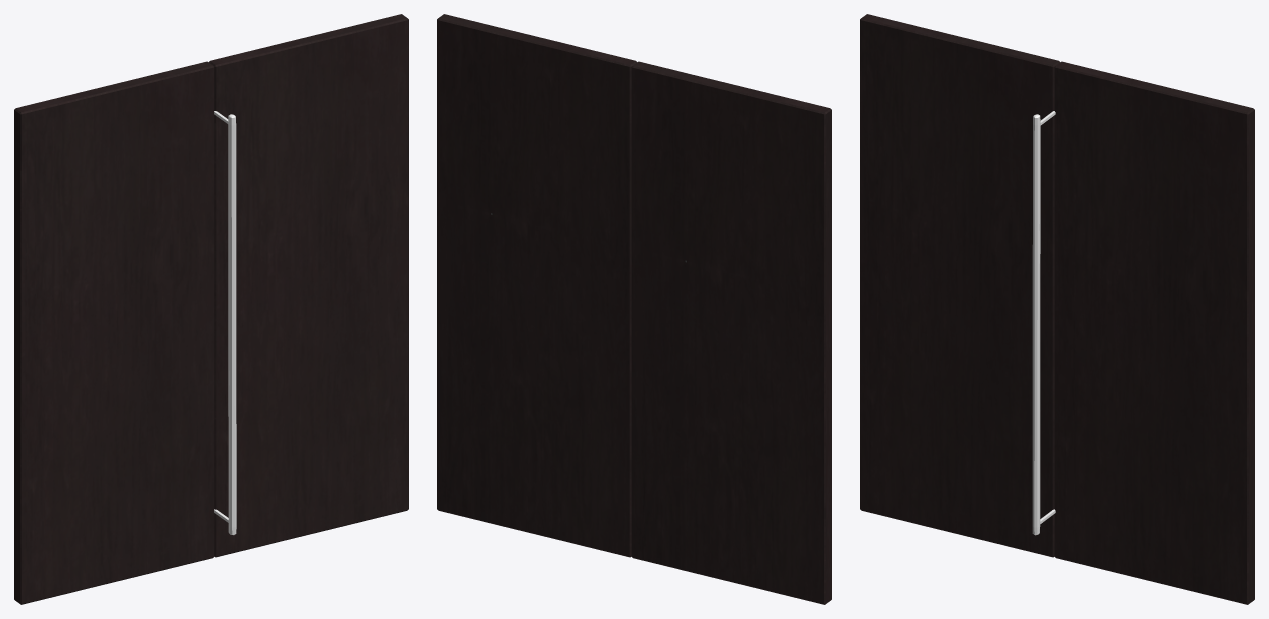
The model's file is Cabinet_3f7c894c.obj.
The picture shows the model from 3 angles, left to right: view 1: azimuth 30°, elevation 25°; view 2: azimuth 150°, elevation 25°; view 3: azimuth 330°, elevation 25°; orthographic projection.
Parts seen in each view (by area): view 1: RightDoorMesh_02_ff4c9adf, LeftDoorMesh_01_cd0fac38, CabineDoorHandle1_(WWW8)_01_91f6d683, CabineDoorHandle1_(WWW7)_02_5bfb2167; view 2: RightDoorMesh_02_ff4c9adf, LeftDoorMesh_01_cd0fac38; view 3: LeftDoorMesh_01_cd0fac38, RightDoorMesh_02_ff4c9adf, CabineDoorHandle1_(WWW8)_01_91f6d683, CabineDoorHandle1_(WWW7)_02_5bfb2167.
Part boxes in pixels (<box>): RightDoorMesh_02_ff4c9adf: <box>14,61,214,604</box>; LeftDoorMesh_01_cd0fac38: <box>208,14,408,557</box>; CabineDoorHandle1_(WWW8)_01_91f6d683: <box>214,111,236,535</box>; CabineDoorHandle1_(WWW7)_02_5bfb2167: <box>228,114,233,533</box>; RightDoorMesh_02_ff4c9adf: <box>631,61,831,604</box>; LeftDoorMesh_01_cd0fac38: <box>437,14,637,557</box>; LeftDoorMesh_01_cd0fac38: <box>1054,61,1254,604</box>; RightDoorMesh_02_ff4c9adf: <box>860,14,1060,557</box>; CabineDoorHandle1_(WWW8)_01_91f6d683: <box>1032,111,1054,535</box>; CabineDoorHandle1_(WWW7)_02_5bfb2167: <box>1035,112,1055,533</box>.
Bounding box in the file's own units: 0.62 × 0.75 × 0.0742.
